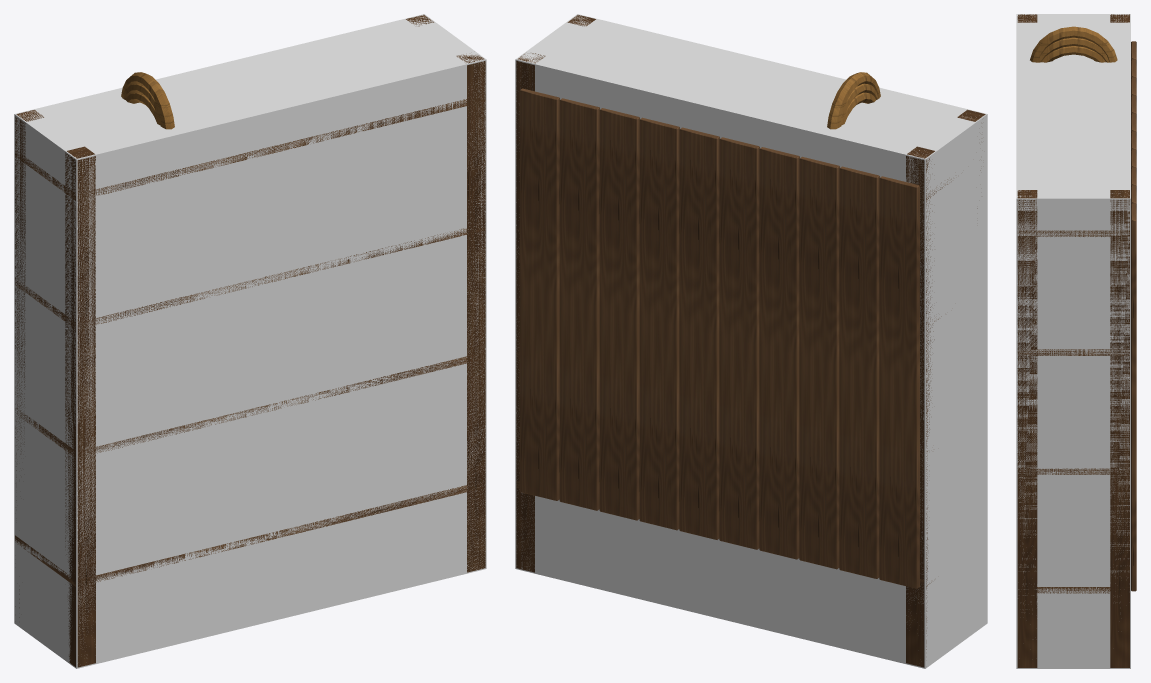
The model's file is settlement_inn_undercroft_shelf_unit.gltf.
The picture shows the model from 3 angles, left to right: view 1: azimuth 30°, elevation 25°; view 2: azimuth 150°, elevation 25°; view 3: azimuth 270°, elevation 25°; orthographic projection. The views are drawn at different scales.
Parts seen in each view (by area): view 1: settlement_inn_undercroft_shelf_unit_col, settlement_inn_undercroft_shelf_unit_LOD0; view 2: settlement_inn_undercroft_shelf_unit_LOD0, settlement_inn_undercroft_shelf_unit_col; view 3: settlement_inn_undercroft_shelf_unit_col, settlement_inn_undercroft_shelf_unit_LOD0.
Boxes of the visible parts, x1,y1,x2,y2 form: settlement_inn_undercroft_shelf_unit_col: (14,14,486,668); settlement_inn_undercroft_shelf_unit_LOD0: (15,14,485,667); settlement_inn_undercroft_shelf_unit_LOD0: (516,15,985,667); settlement_inn_undercroft_shelf_unit_col: (515,14,987,668); settlement_inn_undercroft_shelf_unit_col: (1016,14,1130,668); settlement_inn_undercroft_shelf_unit_LOD0: (1017,14,1136,667).
Size of what is drawn, in the model's own units: 1.6 by 2.04 by 0.44.
Materials: 8 (8 with a texture image).
